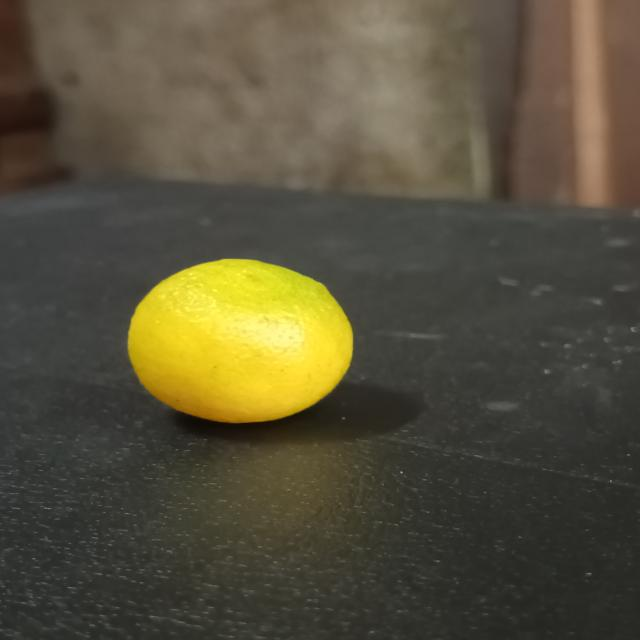greening: (122, 256, 359, 428)
